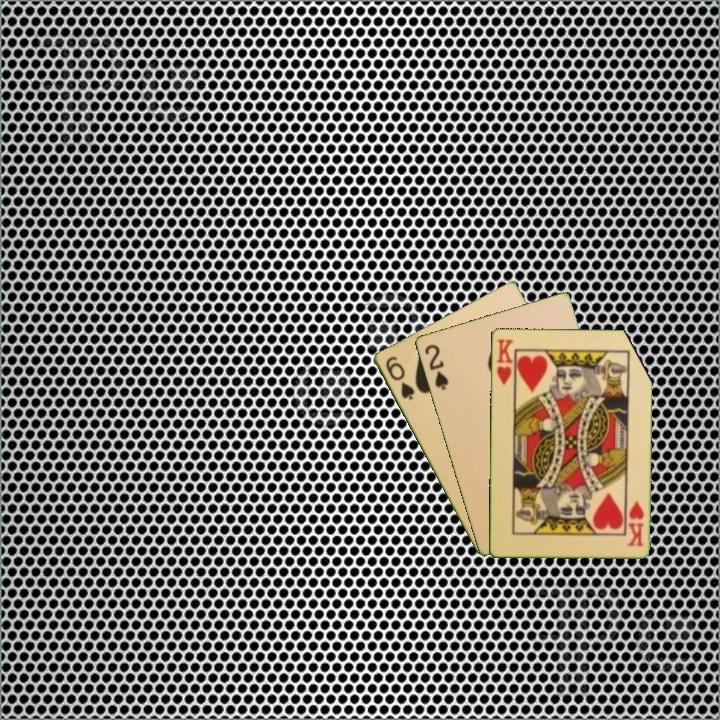2s: (421, 341, 451, 393)
6s: (382, 352, 417, 403)
Kh: (493, 336, 517, 391), (624, 497, 646, 549)
